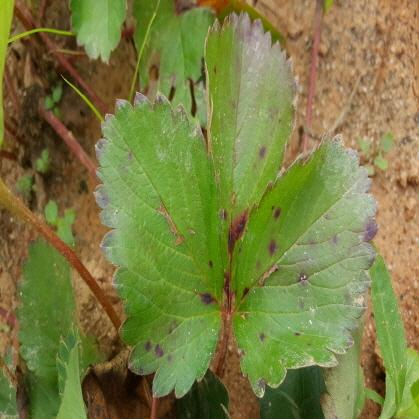Leaf Spot: (91, 89, 227, 399), (228, 130, 379, 400), (204, 9, 299, 296), (318, 318, 366, 418)
